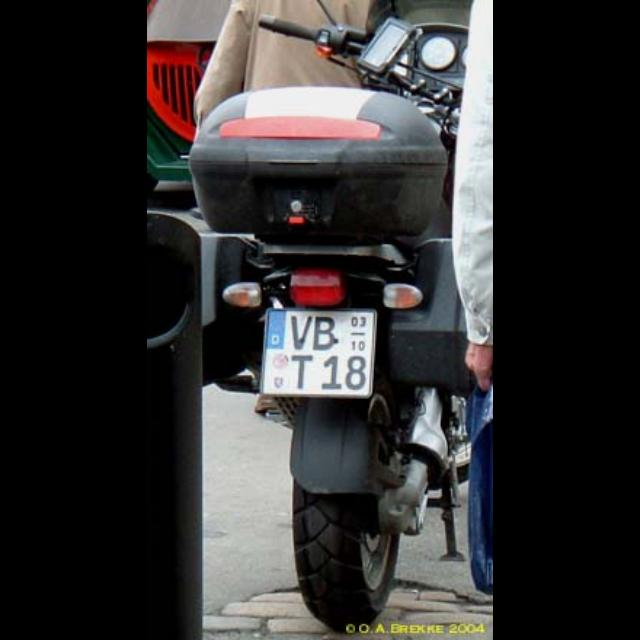d_license_plate: (260, 308, 374, 394)
